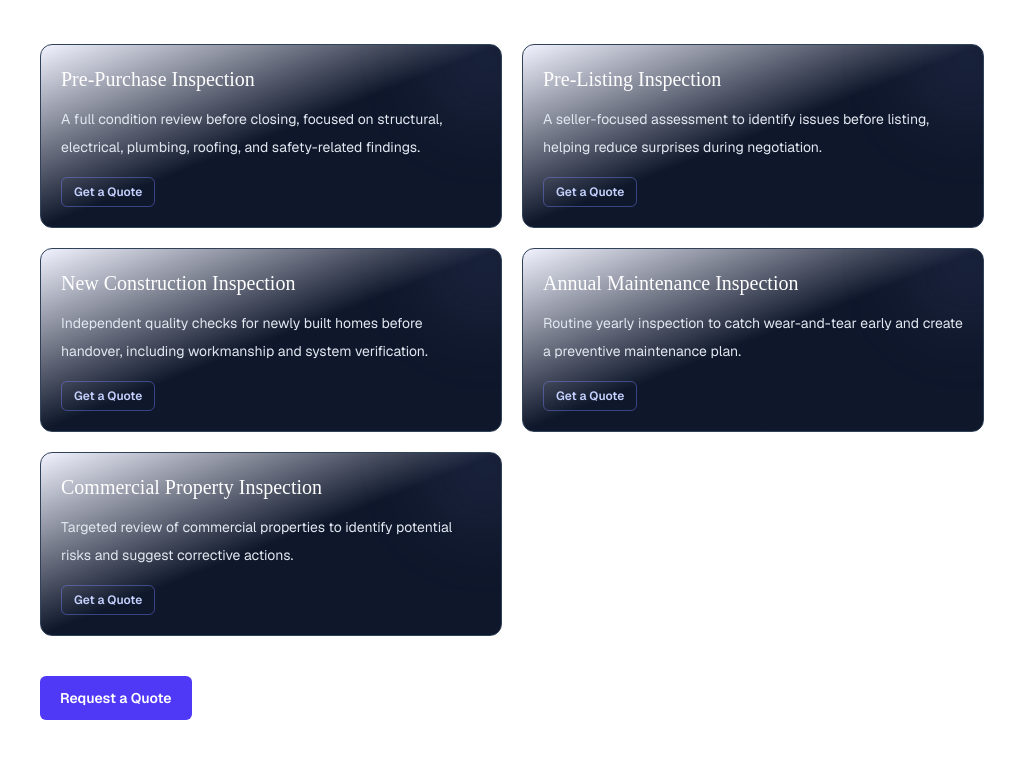
Test: ServiceDetail › opens quote modal with service prefilled from page-level action
(page scrolled)
Click the button "Request a Quote" at (116, 698), box [40,676,192,720]
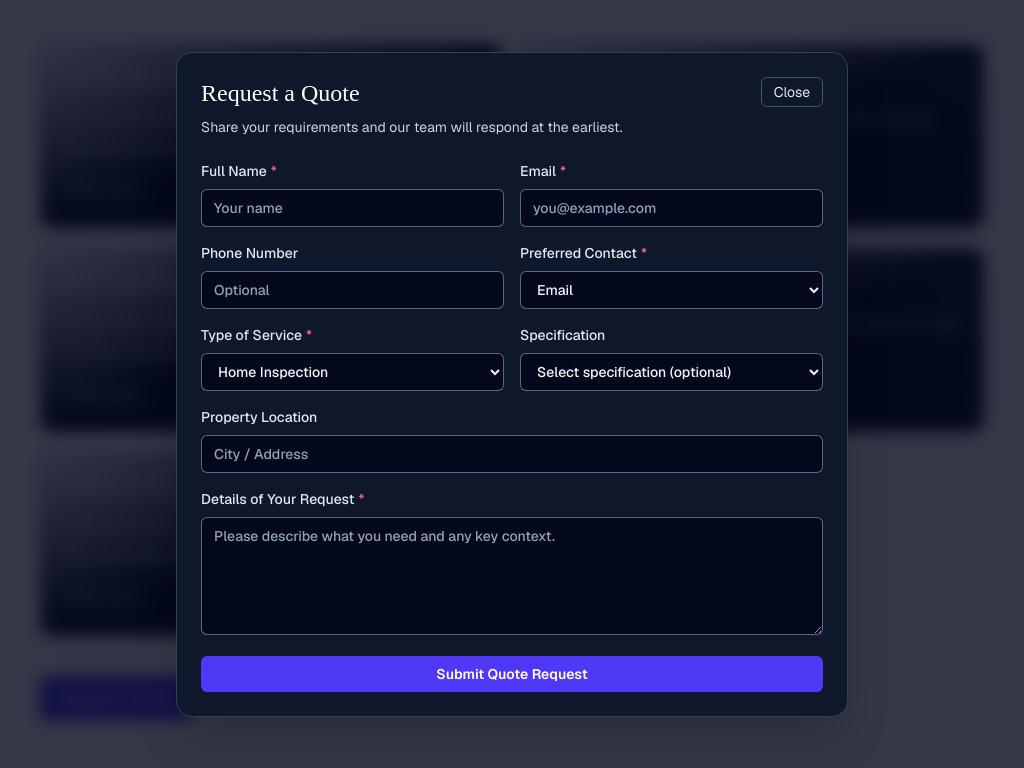
Now the dialog "Request a Quote" is shown, box [176,52,848,716]
Now the dropdown labelled "Type of Service*" shows "Home Inspection", box [201,352,504,390]
Now the dropdown labelled "Specification" shows "Select specification (optional)", box [520,352,823,390]
